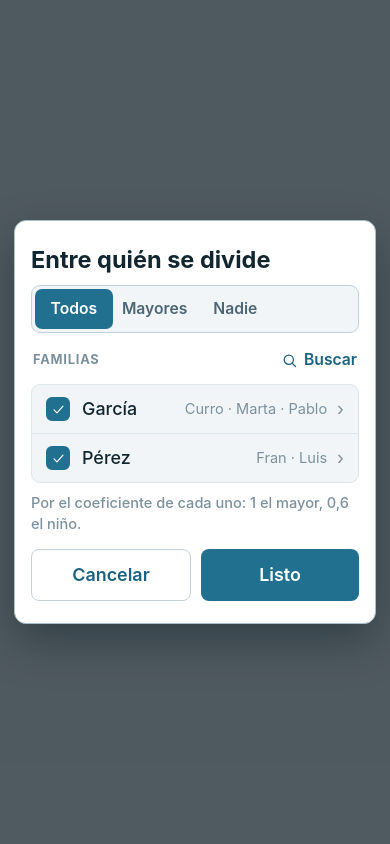
Test: Entre quién se divide · el buscador › al escribir, las familias se retiran y salen las personas
Click the button "Buscar".
click(319, 361)  # box [279,343,359,378]
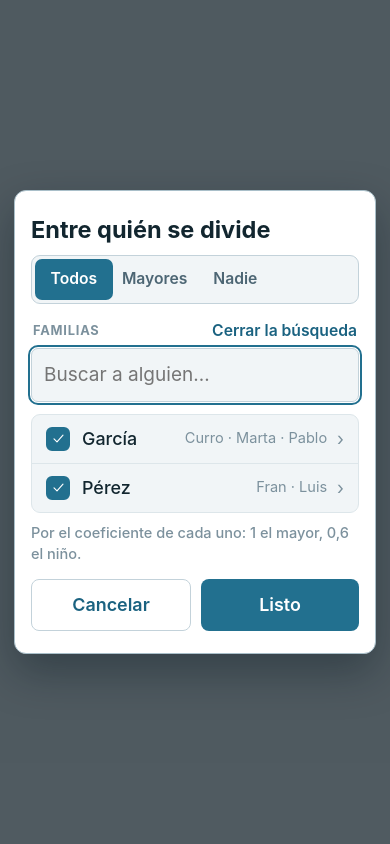
Type "ma" into the field labelled "Buscar a alguien".
click(195, 375); type("ma")  # box [31,348,359,402]
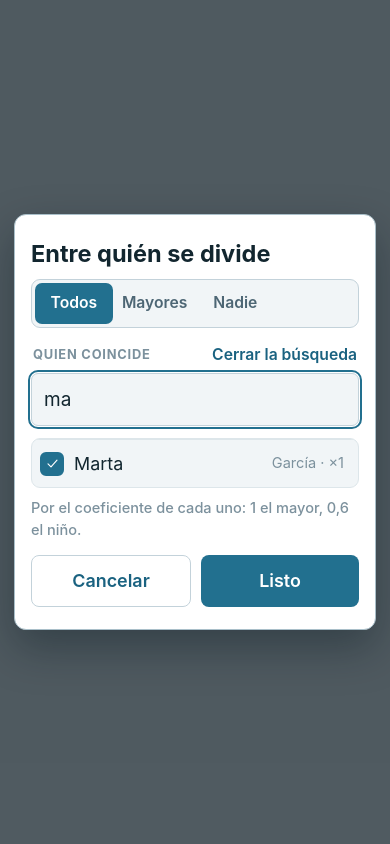
Expected: the text "Marta" is shown, [74,453,123,474]
Result: the text "García · ×1" is shown at [272,453,344,474]
